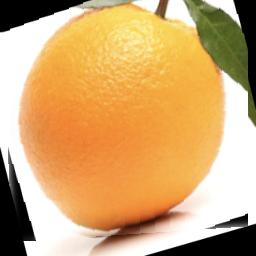Orange Fresh: (0, 0, 248, 241)
